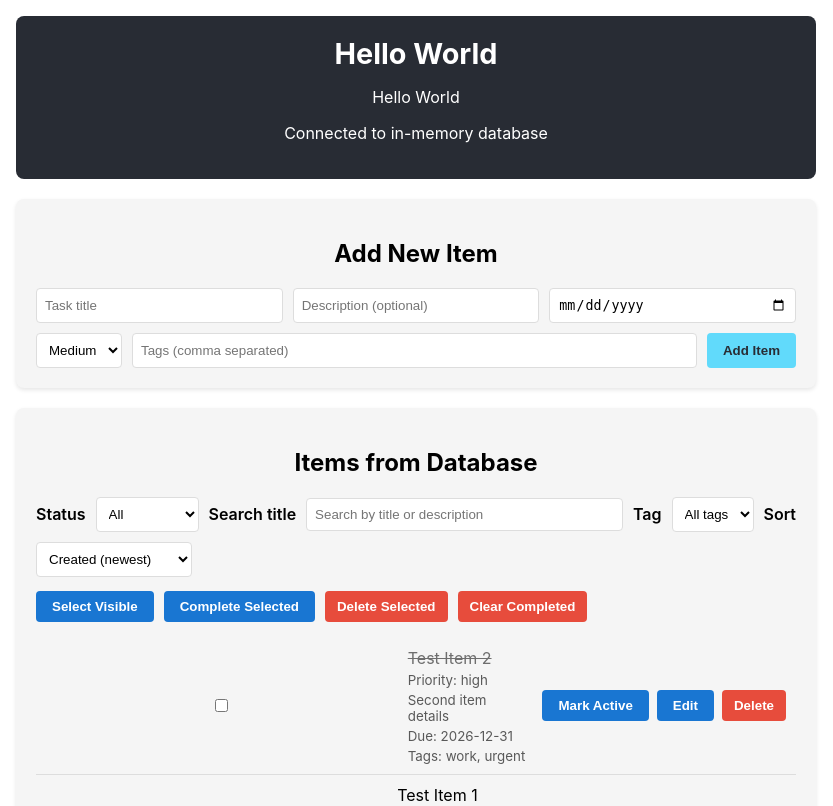
Test case: App Component › shows validation for empty title submissions
The width and height of the screenshot is (833, 806).
Click the button "Add Item" at (752, 351), box left=707, top=333, right=796, bottom=368
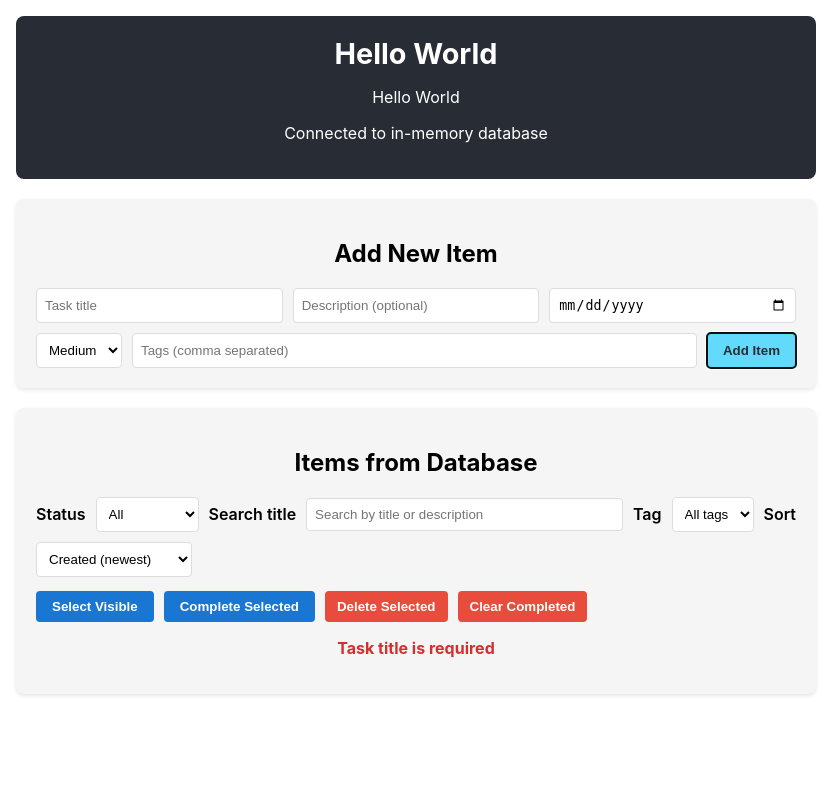
Now the text "Task title is required" is shown, box left=337, top=638, right=495, bottom=658
